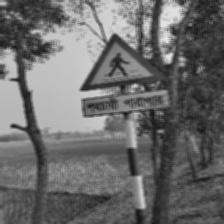Pedestrian-crossing: (79, 28, 171, 118)
